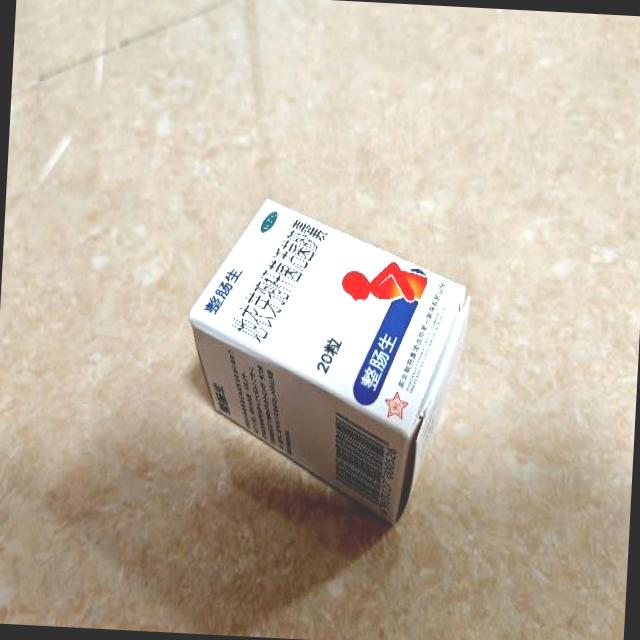box: (178, 192, 477, 528)
